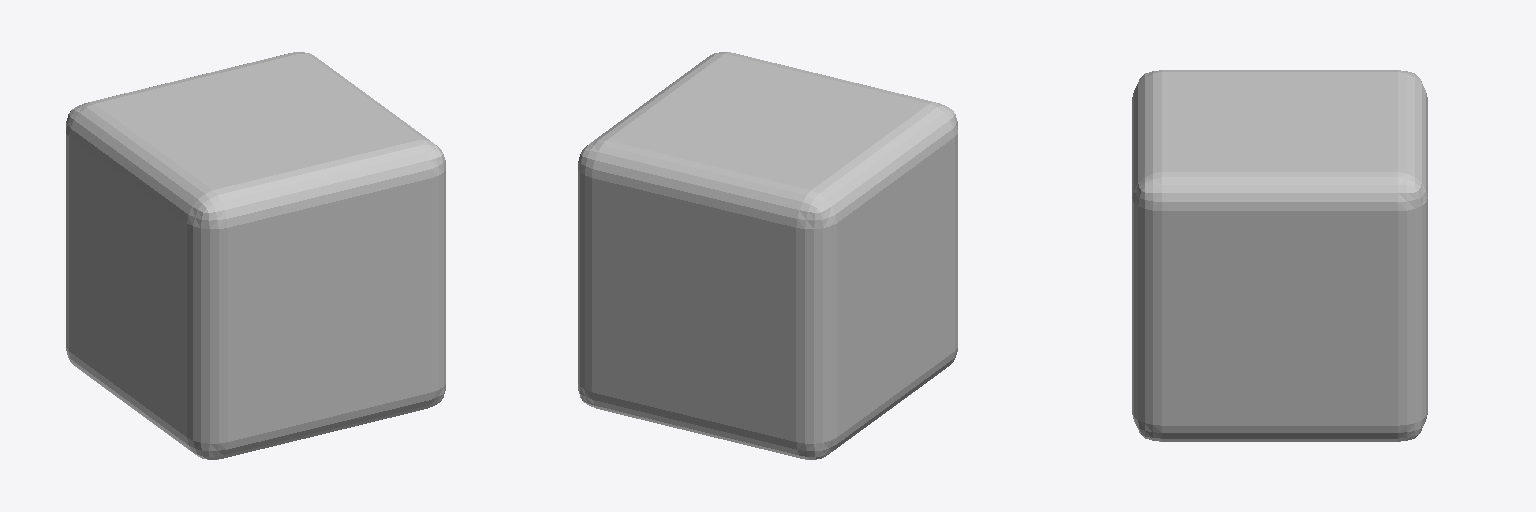
File: dice.obj
3 renders of one model, left to right at view 1: azimuth 30°, elevation 25°; view 2: azimuth 150°, elevation 25°; view 3: azimuth 270°, elevation 25°, orthographic.
Parts seen in each view (by area): view 1: Cube; view 2: Cube; view 3: Cube.
Boxes of the visible parts, <box> form: Cube: <box>66,52,445,459</box>; Cube: <box>578,52,957,459</box>; Cube: <box>1132,70,1427,441</box>.
Bounding box in the file's own units: 2 × 2 × 2.